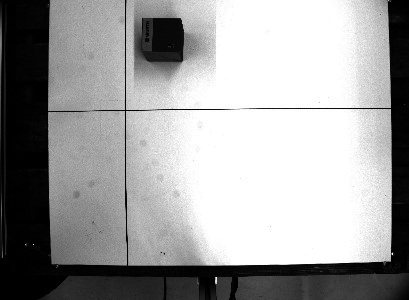b7: (139, 14, 186, 64)
